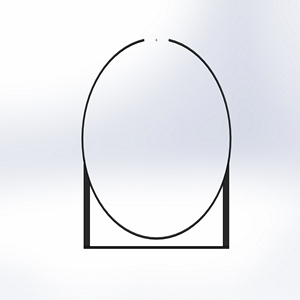circle: (78, 34, 234, 252)
